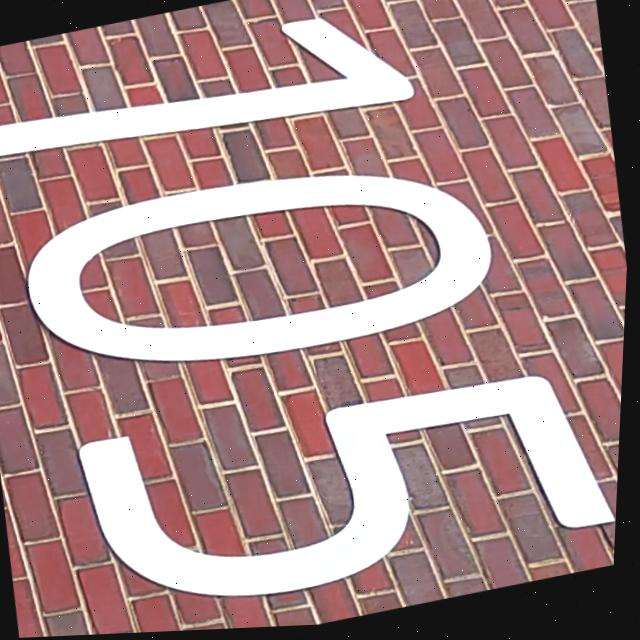character: (65, 334, 624, 636), (2, 124, 509, 410), (0, 0, 427, 189)
